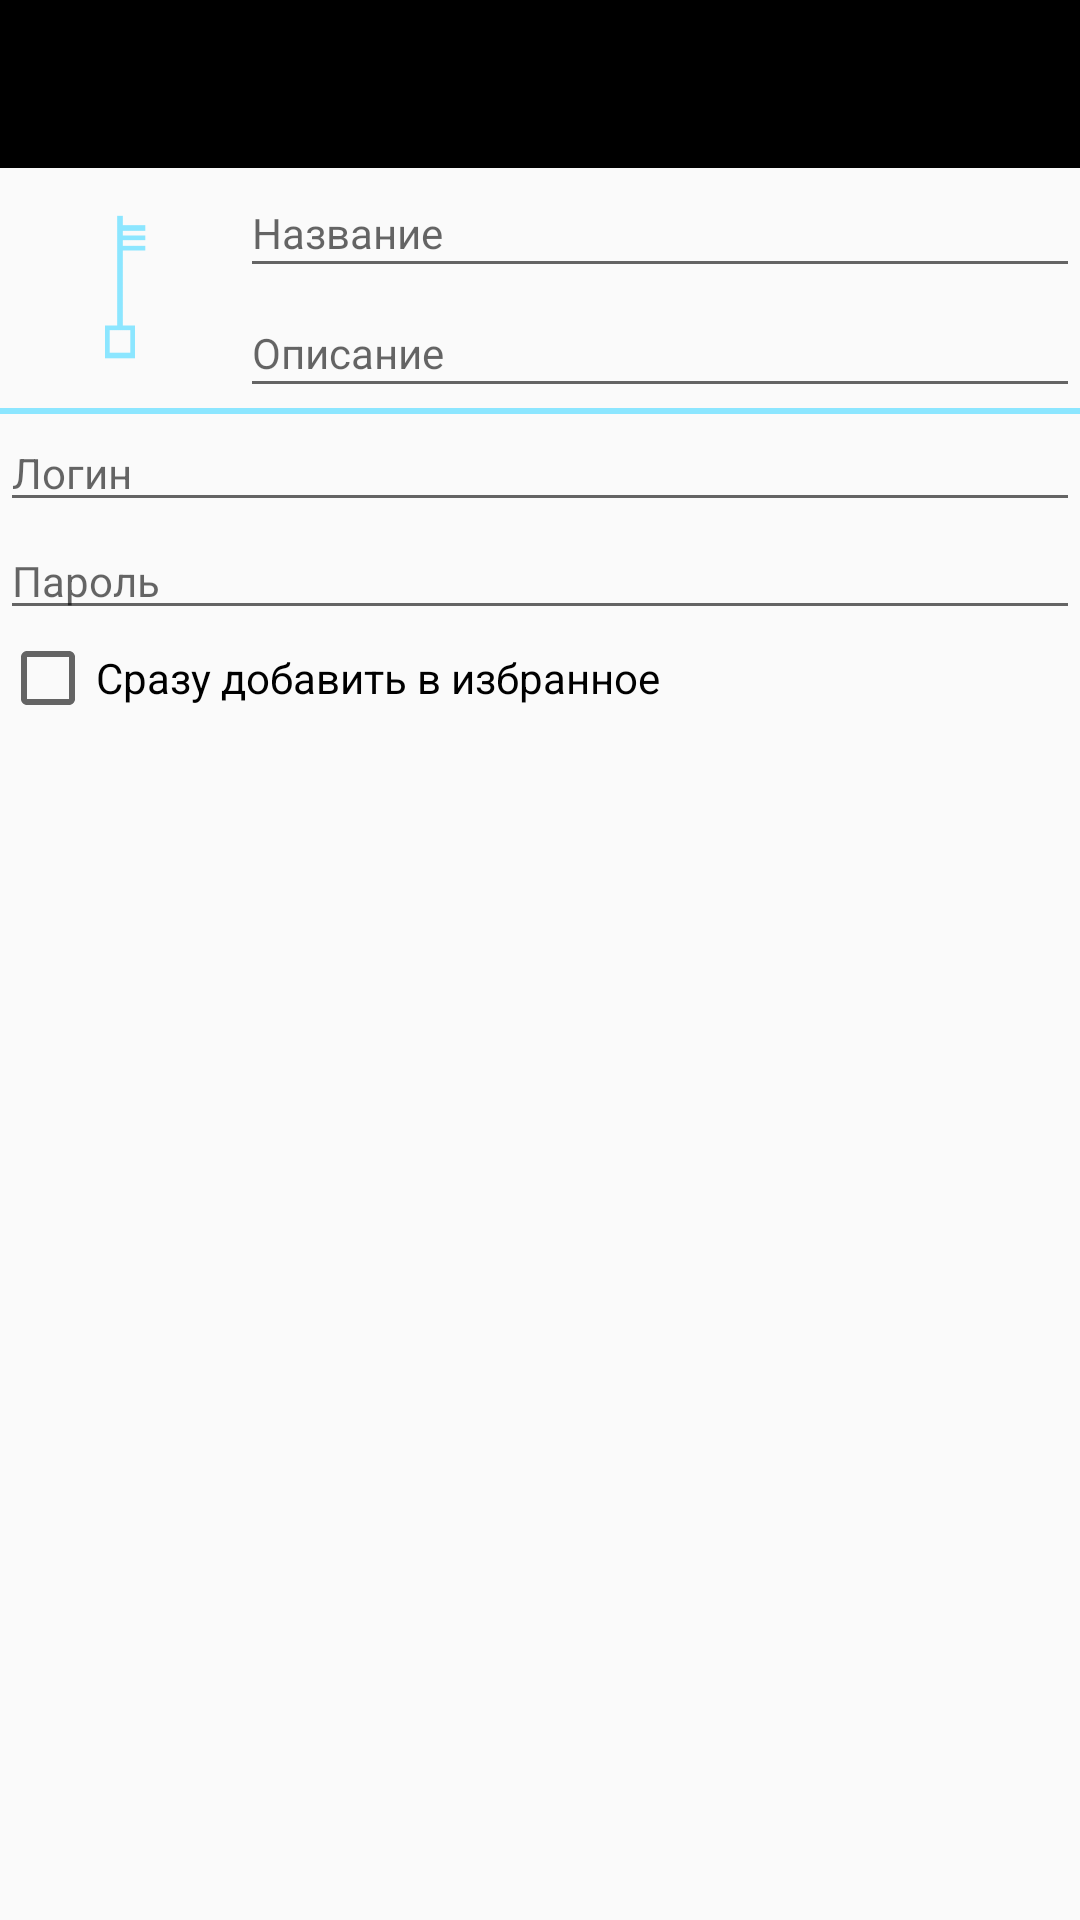

Icon click points for this 1080×1920 phone screenshot, format [x,y]:
passwords: [125,287]
